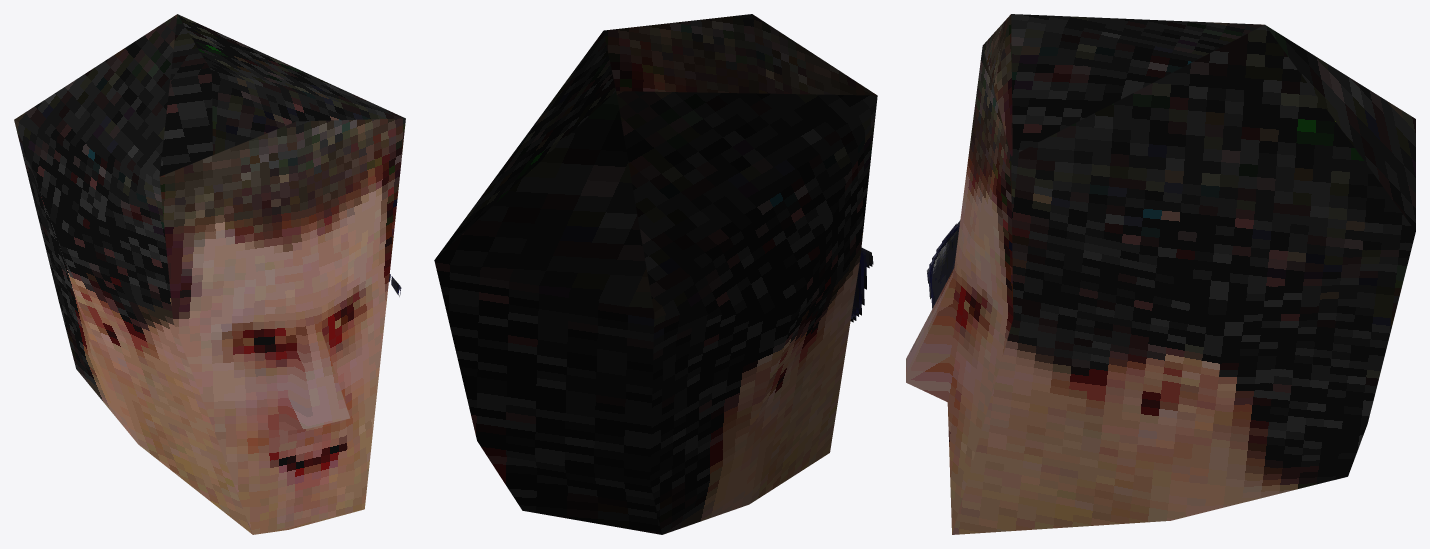
The model's file is CheadneilZ.obj.
The picture shows the model from 3 angles, left to right: view 1: azimuth 30°, elevation 25°; view 2: azimuth 150°, elevation 25°; view 3: azimuth 270°, elevation 25°; orthographic projection. The views are drawn at different scales.
Size of the model in its own units: 168 by 255 by 233.
7 materials, 7 textured.
